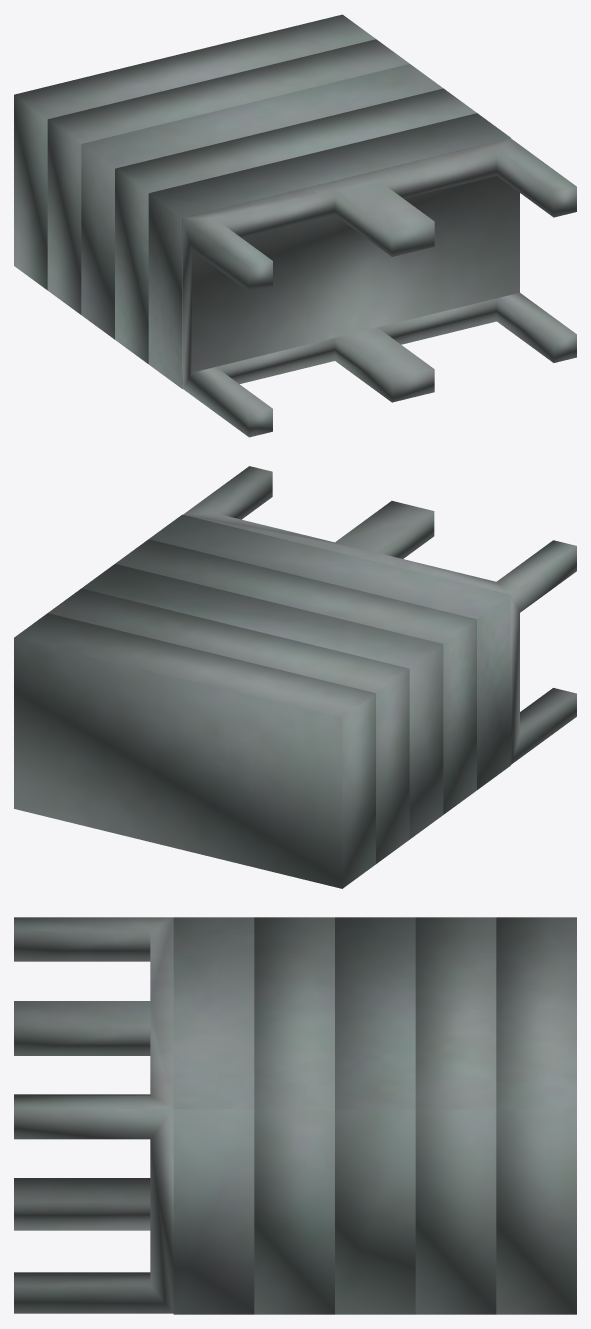
File: CardCatologue.fbx
3 renders of one model, top to bottom at view 1: azimuth 30°, elevation 25°; view 2: azimuth 150°, elevation 25°; view 3: azimuth 270°, elevation 25°, orthographic. The views are drawn at different scales.
Parts seen in each view (by area): view 1: CardCatologue_1; view 2: CardCatologue_1; view 3: CardCatologue_1.
Boxes of the visible parts, x1=… form: CardCatologue_1: x1=14, y1=14, x2=576, y2=437; CardCatologue_1: x1=14, y1=466, x2=576, y2=888; CardCatologue_1: x1=14, y1=917, x2=576, y2=1314.
Bounding box in the file's own units: 7.01 × 3.6 × 8.68.
